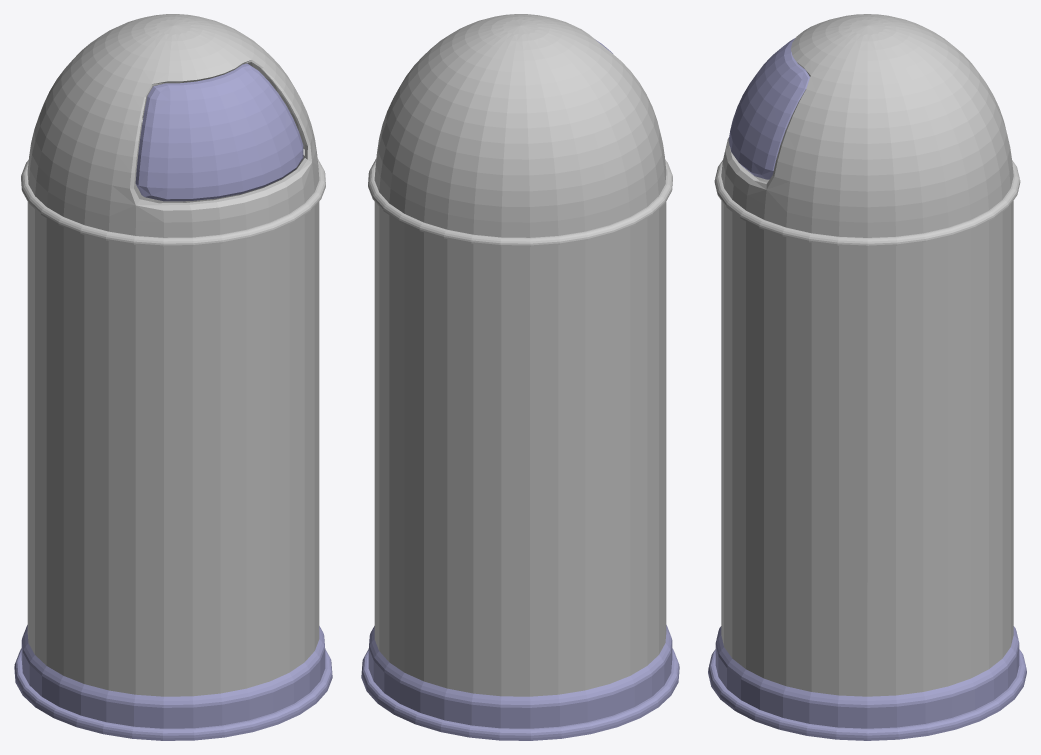
The model's file is bullet-trash-can.obj.
3 views of the same model, side by side, from view 1: azimuth 30°, elevation 25°; view 2: azimuth 150°, elevation 25°; view 3: azimuth 270°, elevation 25° (orthographic).
Visible parts, largest first — view 1: bullet_trashcan, trashcan_lid; view 2: bullet_trashcan; view 3: bullet_trashcan, trashcan_lid.
Boxes of the visible parts, x1,y1,x2,y2 form: bullet_trashcan: (14, 14, 332, 740); trashcan_lid: (135, 63, 303, 201); bullet_trashcan: (361, 14, 679, 740); bullet_trashcan: (708, 14, 1026, 740); trashcan_lid: (728, 38, 809, 179).
Size of the model in its own units: 3.3 by 7.4 by 3.3.
